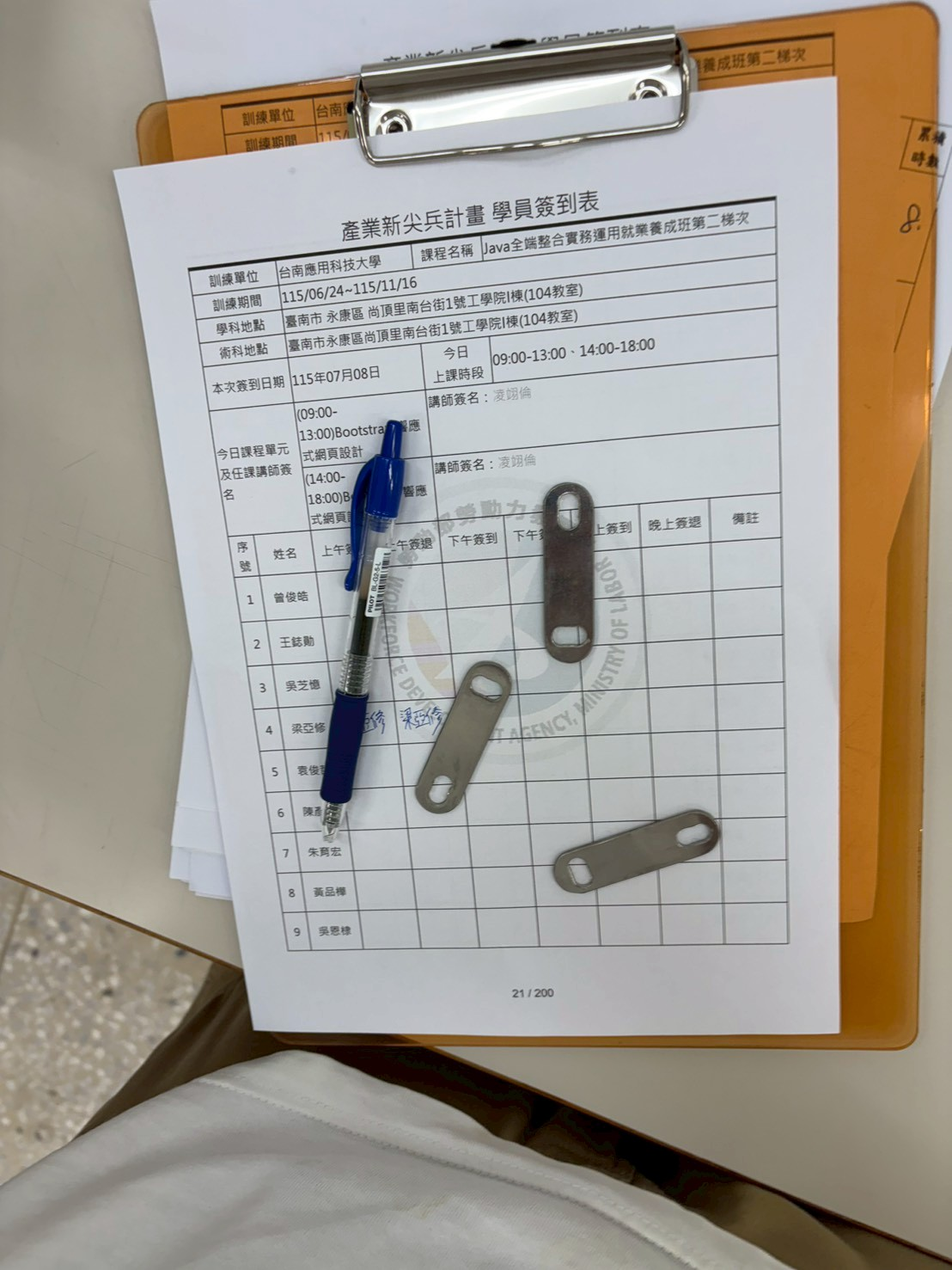Fe: (544, 483, 600, 666), (718, 794, 774, 977), (473, 647, 529, 816)
